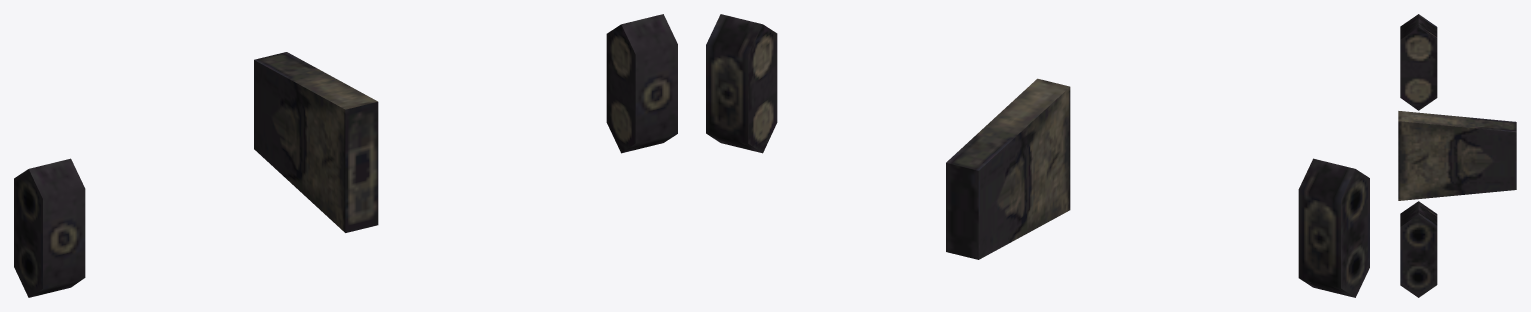
3 renders of one model, left to right at view 1: azimuth 30°, elevation 25°; view 2: azimuth 150°, elevation 25°; view 3: azimuth 270°, elevation 25°, orthographic. The views are drawn at different scales.
Visible parts, largest first — view 1: set_0_group_0; view 2: set_0_group_0; view 3: set_0_group_0.
Part boxes in pixels (bbox=[...]): set_0_group_0: bbox=[14, 14, 677, 297]; set_0_group_0: bbox=[706, 14, 1369, 297]; set_0_group_0: bbox=[1398, 14, 1516, 297].
Size of the model in its own units: 0.7111 by 0.1381 by 0.1777.
1 material, 1 textured.
